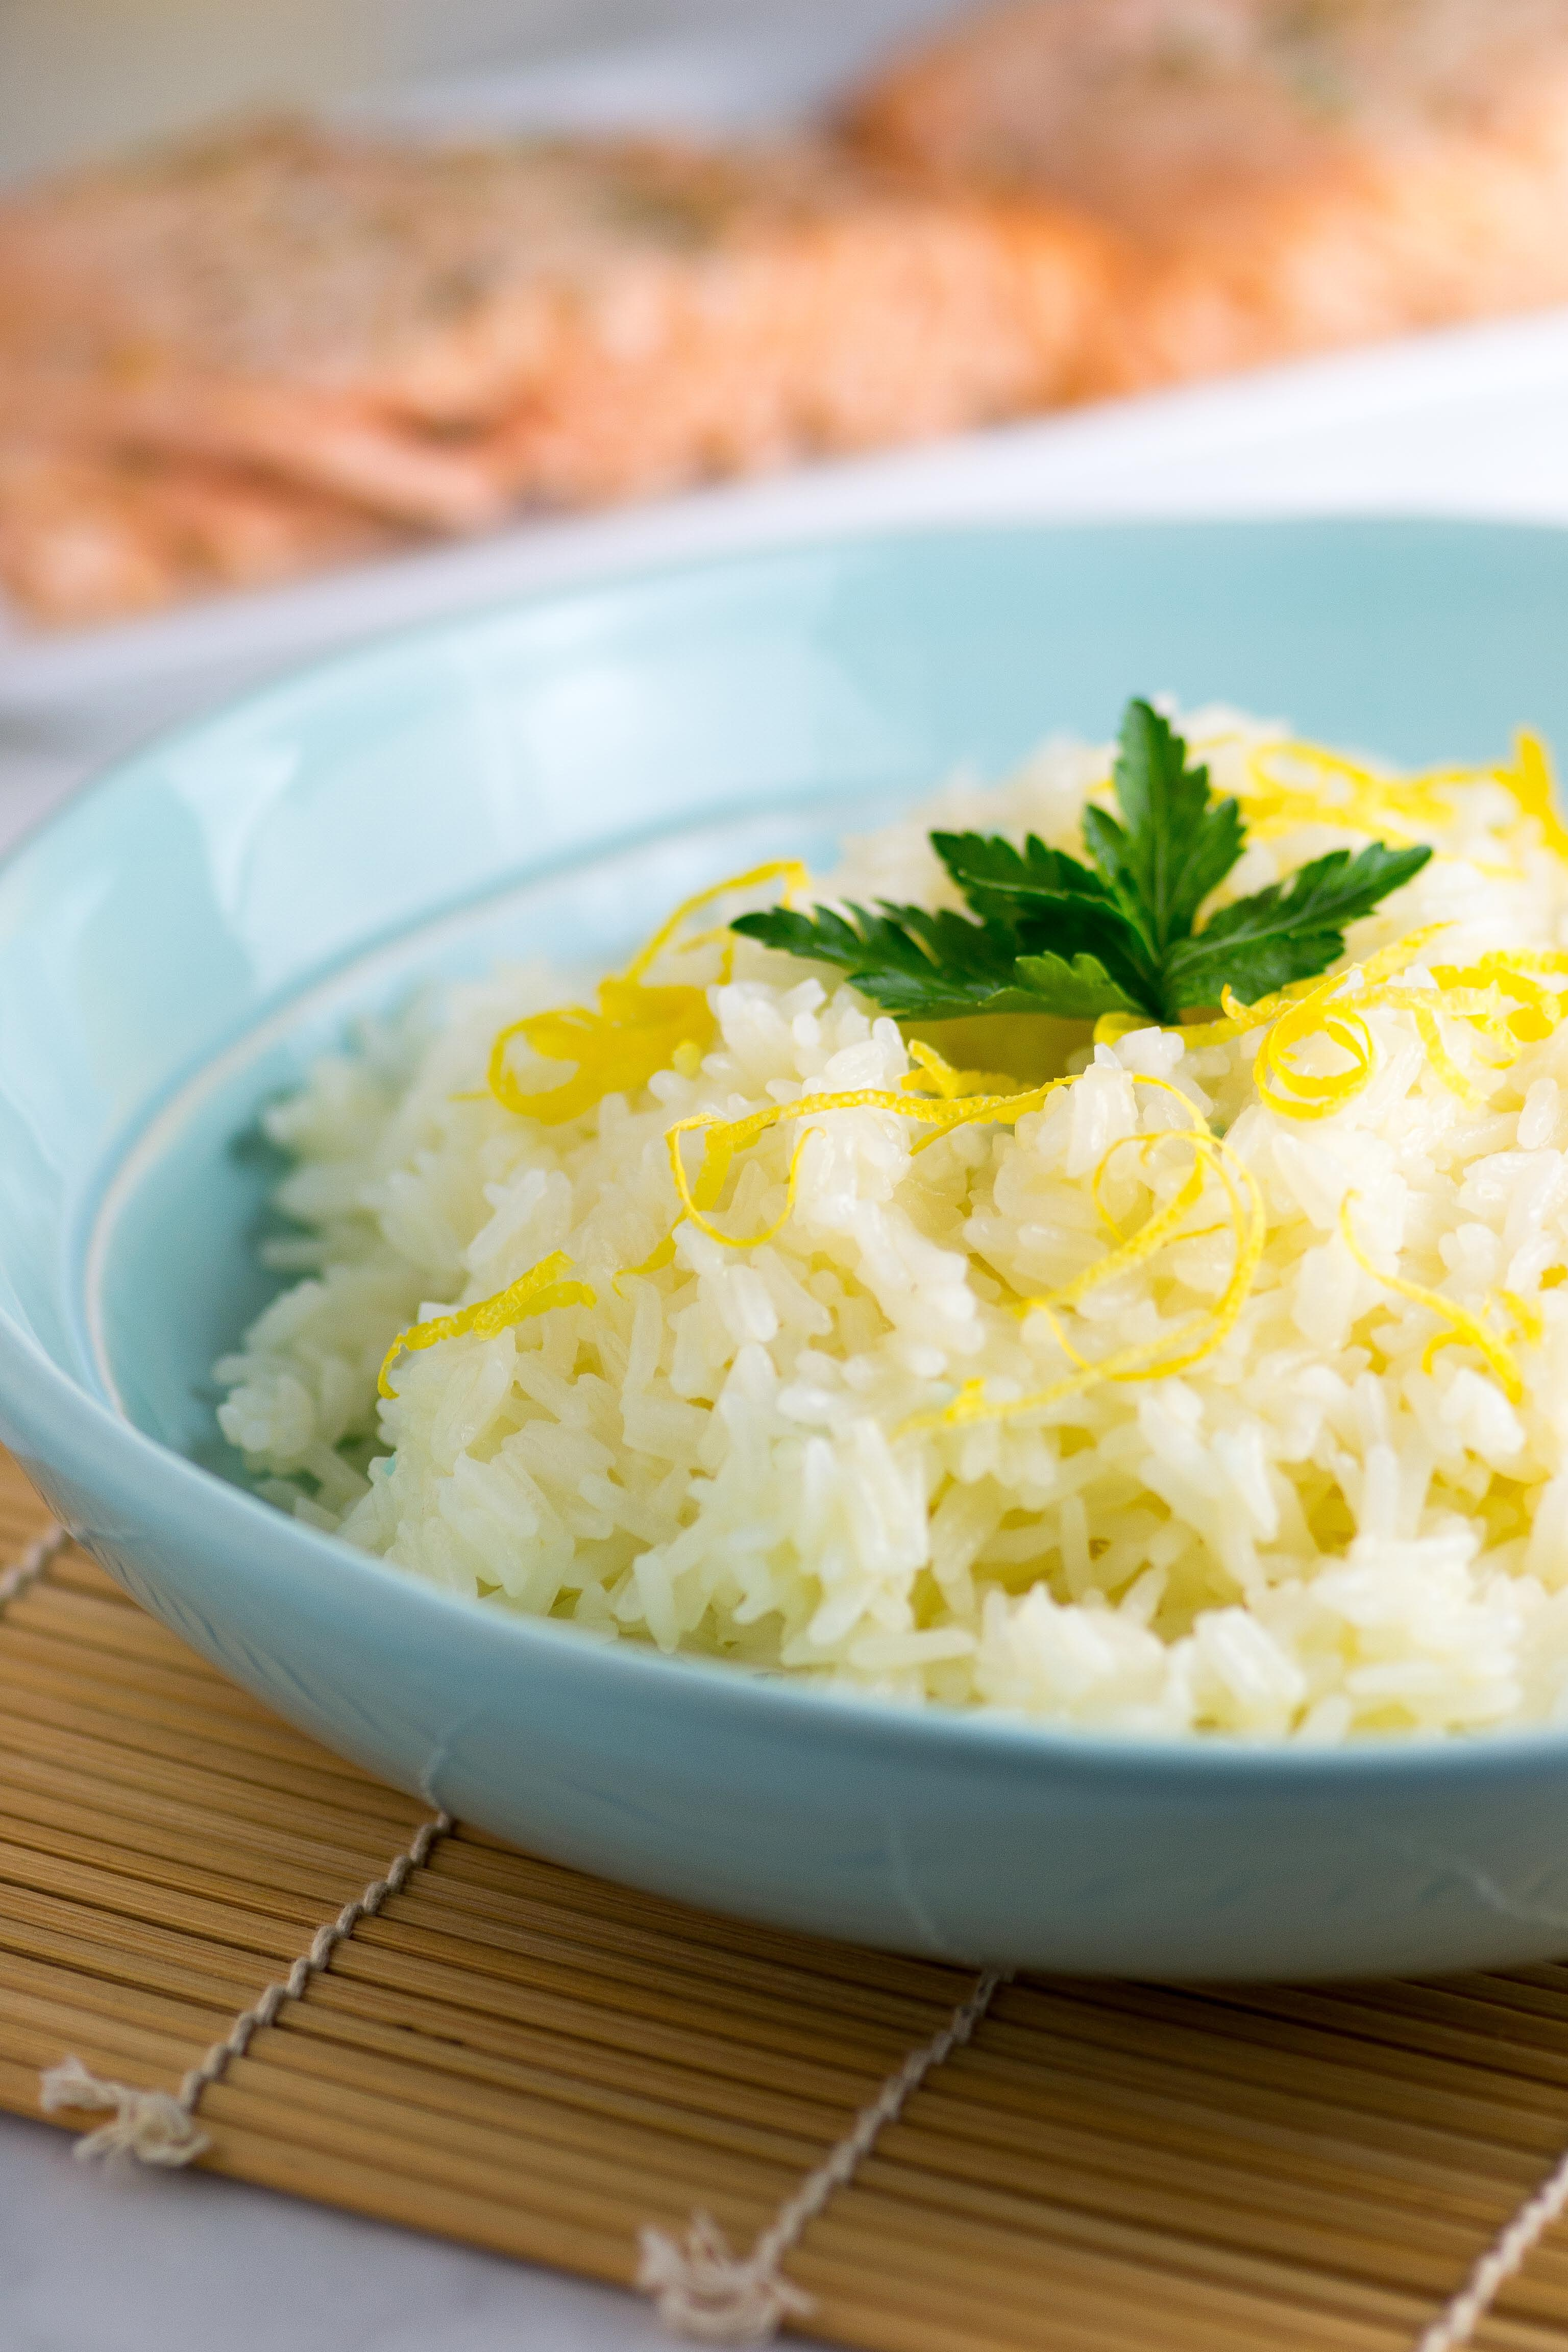plain rice: (422, 1022, 1337, 1615)
